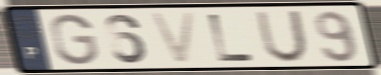6: (104, 12, 149, 65)
9: (313, 9, 360, 64)
G: (48, 12, 100, 67)
L: (206, 12, 257, 63)
U: (254, 9, 311, 65)
V: (146, 10, 200, 67)
